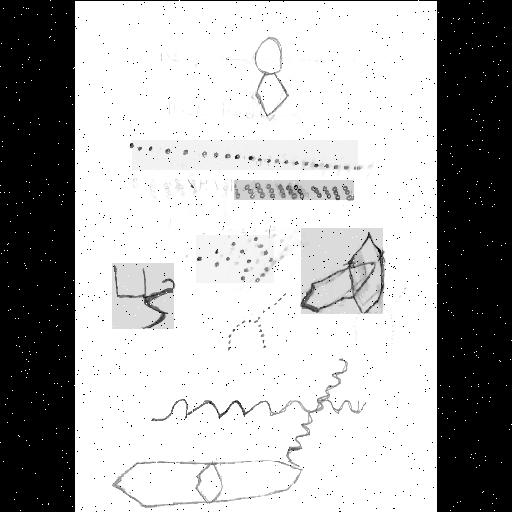shape-1: (254, 33, 288, 115)
shape-2: (132, 140, 358, 170)
shape-3: (234, 180, 354, 200)
shape-4: (196, 235, 274, 283)
shape-5: (112, 263, 174, 329)
shape-6: (228, 292, 286, 350)
shape-7: (153, 360, 365, 466)
shape-8: (301, 228, 383, 314)
shape-9: (112, 462, 304, 506)
